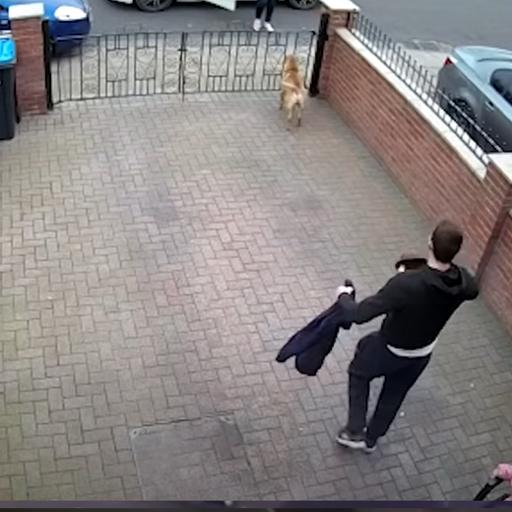Humans: (319, 192, 487, 490)
